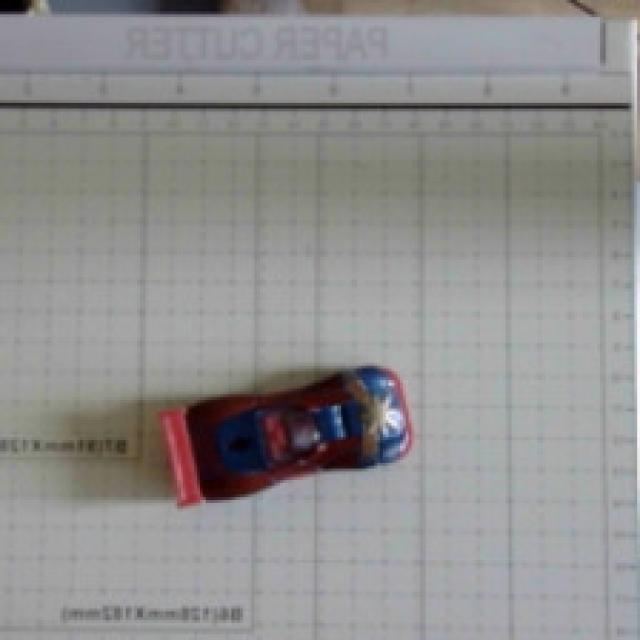Red Car: (138, 316, 442, 558)
